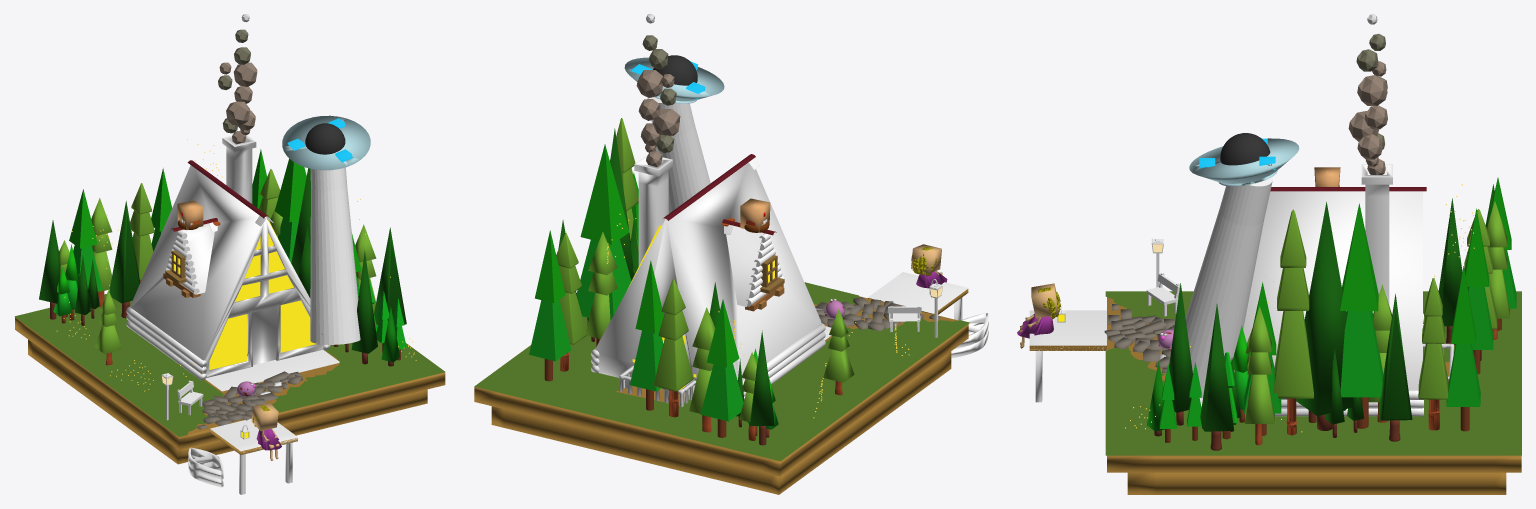
The model's file is Dream Build new edited.glb.
The picture shows the model from 3 angles, left to right: view 1: azimuth 30°, elevation 25°; view 2: azimuth 150°, elevation 25°; view 3: azimuth 270°, elevation 25°; orthographic projection. The views are drawn at different scales.
Parts seen in each view (by area): view 1: Cylinder.007, Plane, Base, Cylinder.031, Plane.002, UFO, Icosphere.008, Cube.043, Cube.001, Cylinder.045, Cylinder.025, River Bridge (+24 smaller); view 2: Cylinder.007, Plane, Base, Cylinder.045, Icosphere.008, Cylinder.049, Cylinder.023, Cylinder.031, Cylinder.026, Cylinder.027, Cylinder.003, River Bridge (+18 smaller); view 3: Plane, Base, Cylinder.007, Cylinder.031, Cylinder.045, Cylinder, Cylinder.028, Icosphere.008, Cylinder.049, Cylinder.048, Cylinder.003, River Bridge (+22 smaller).
Part boxes in pixels (left/top/right/bottom): Cylinder.007: left=126, top=138, right=330, bottom=380; Plane: left=14, top=294, right=444, bottom=436; Base: left=15, top=317, right=445, bottom=464; Cylinder.031: left=310, top=167, right=360, bottom=344; Plane.002: left=209, top=220, right=316, bottom=369; UFO: left=282, top=115, right=370, bottom=170; Icosphere.008: left=218, top=29, right=257, bottom=144; Cube.043: left=197, top=371, right=302, bottom=429; Cube.001: left=205, top=349, right=339, bottom=391; Cylinder.045: left=275, top=158, right=306, bottom=262; Cylinder.025: left=109, top=201, right=140, bottom=318; River Bridge: left=210, top=418, right=297, bottom=494; Cylinder.007: left=591, top=163, right=825, bottom=399; Plane: left=474, top=282, right=969, bottom=461; Base: left=474, top=289, right=968, bottom=494; Cylinder.045: left=576, top=144, right=631, bottom=346; Icosphere.008: left=636, top=35, right=680, bottom=166; Cylinder.049: left=529, top=230, right=571, bottom=381; Cylinder.023: left=700, top=299, right=743, bottom=437; Cylinder.031: left=647, top=97, right=710, bottom=213; Cylinder.026: left=654, top=279, right=693, bottom=417; Cylinder.027: left=630, top=260, right=663, bottom=410; Cylinder.003: left=634, top=154, right=672, bottom=266; River Bridge: left=868, top=272, right=968, bottom=320; Plane: left=1105, top=291, right=1521, bottom=455; Base: left=1029, top=297, right=1521, bottom=494; Cylinder.007: left=1243, top=191, right=1423, bottom=416; Cylinder.031: left=1185, top=177, right=1272, bottom=398; Cylinder.045: left=1340, top=203, right=1383, bottom=428; Cylinder: left=1296, top=202, right=1362, bottom=430; Cylinder.028: left=1273, top=209, right=1313, bottom=435; Icosphere.008: left=1348, top=34, right=1387, bottom=174; Cylinder.049: left=1446, top=266, right=1480, bottom=431; Cylinder.048: left=1418, top=278, right=1448, bottom=430; Cylinder.003: left=1361, top=164, right=1392, bottom=304; River Bridge: left=1029, top=310, right=1106, bottom=402.
Size of the model in its own units: 17.42 by 21.14 by 21.92.
